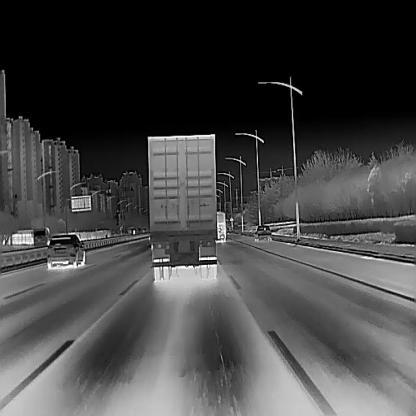bus: (214, 210, 226, 242)
car: (46, 233, 85, 267), (254, 223, 271, 240)
truck: (148, 132, 217, 280), (30, 227, 50, 246)
